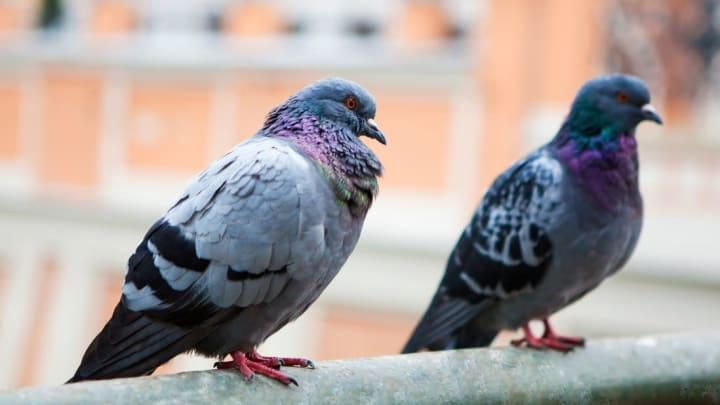Flying Rat: (67, 70, 389, 394), (401, 69, 681, 361)
